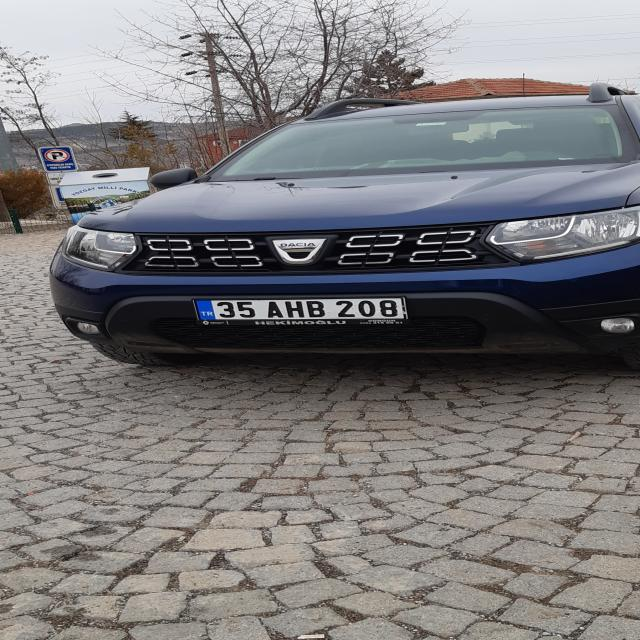plate: (194, 297, 404, 320)
